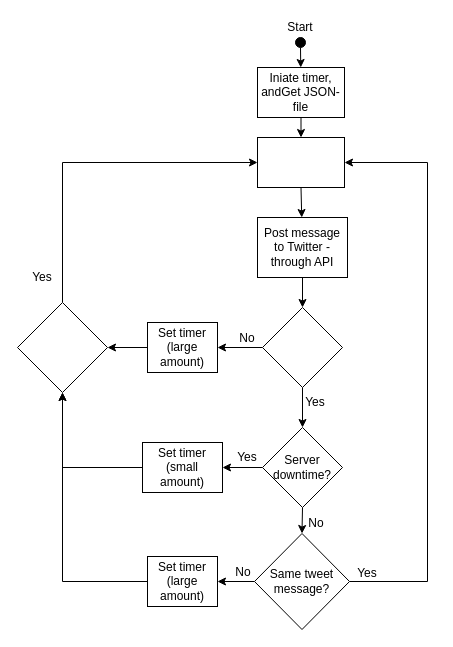
Image size: 453x647. Some labels were removed from this diagram. Each missing label, with the box of its shape:
Create new twitter message: (256, 136, 344, 188)
Error callback?: (262, 306, 342, 388)
Time to post?: (16, 302, 108, 392)
